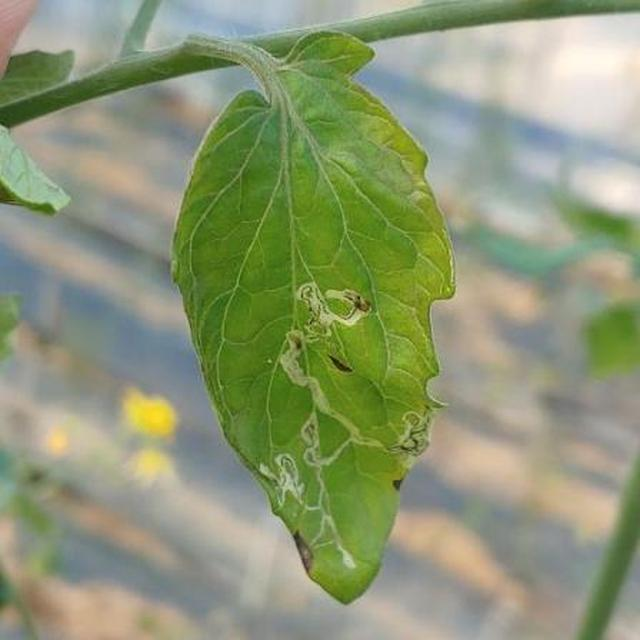Leaf Miner: (244, 134, 640, 640)
